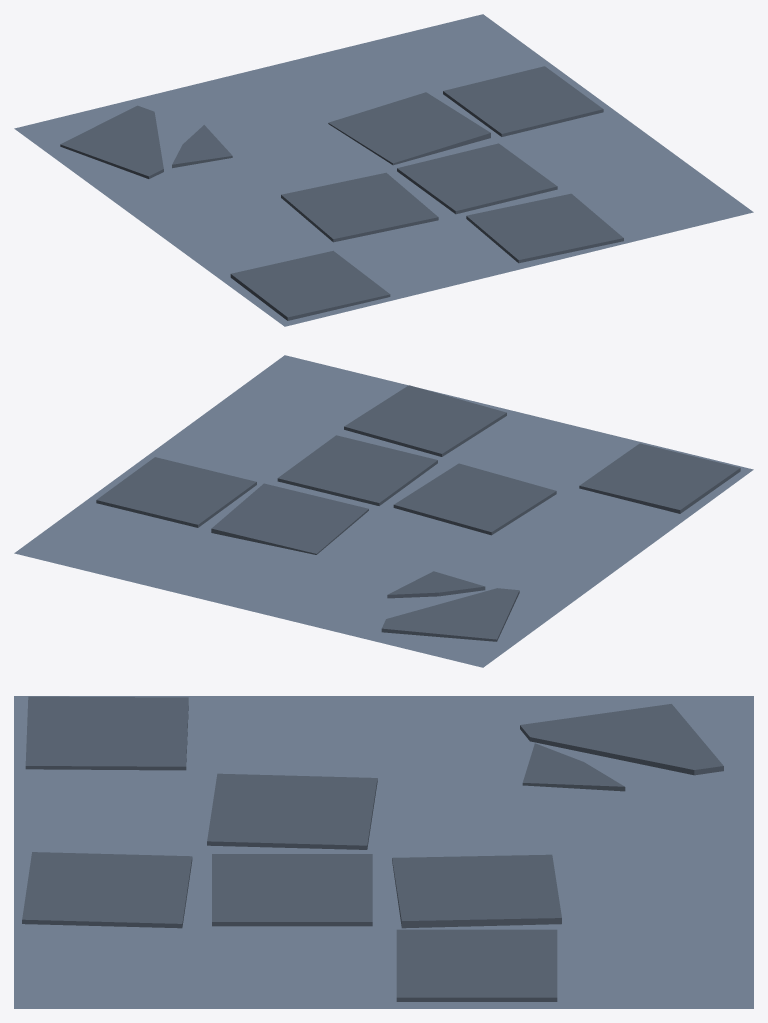
File: FloorTile04.fbx
The picture shows the model from 3 angles, top to bottom: view 1: azimuth 30°, elevation 25°; view 2: azimuth 150°, elevation 25°; view 3: azimuth 270°, elevation 25°; orthographic projection. The views are drawn at different scales.
Visible parts, largest first — view 1: Plane.003; view 2: Plane.003; view 3: Plane.003.
Boxes of the visible parts, x1=… form: Plane.003: x1=14, y1=14, x2=753, y2=326; Plane.003: x1=14, y1=355, x2=753, y2=667; Plane.003: x1=14, y1=696, x2=753, y2=1008.
Bounding box in the file's own units: 800 × 15.56 × 800.
1 material, 1 textured.
